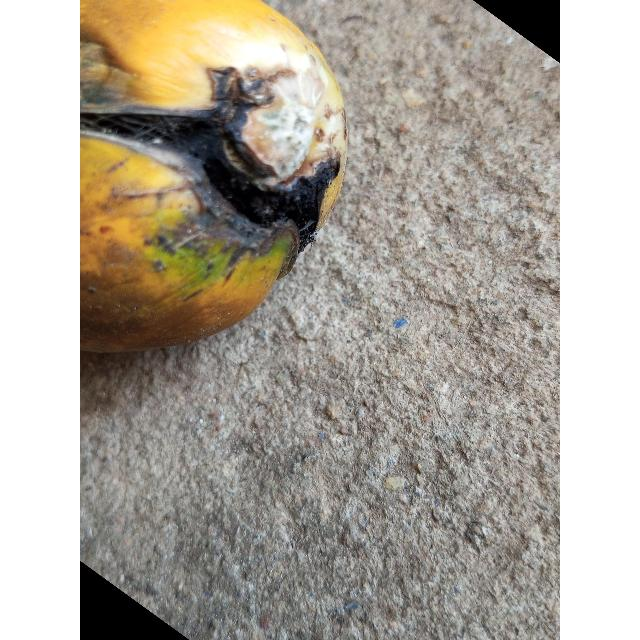damaged: (80, 0, 346, 356)
